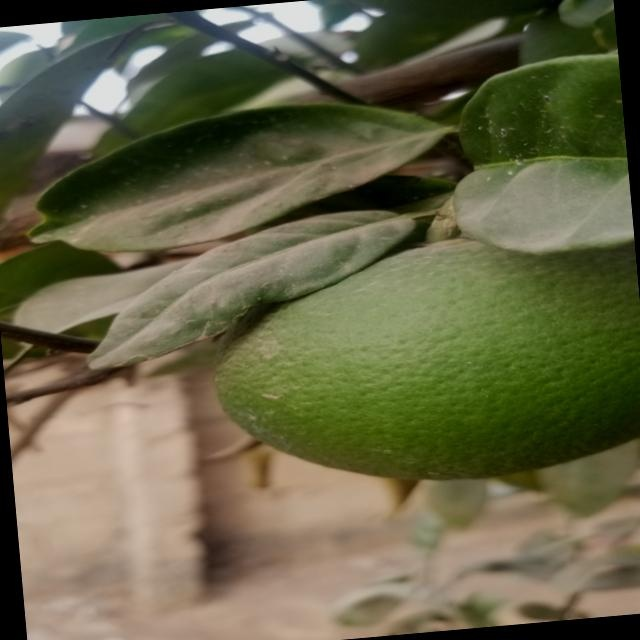agrume: (200, 226, 640, 498)
